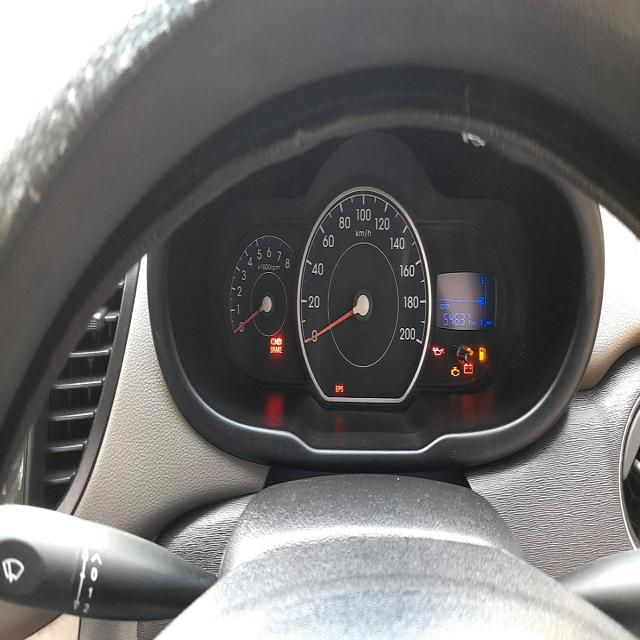odometer: (441, 309, 473, 330)
